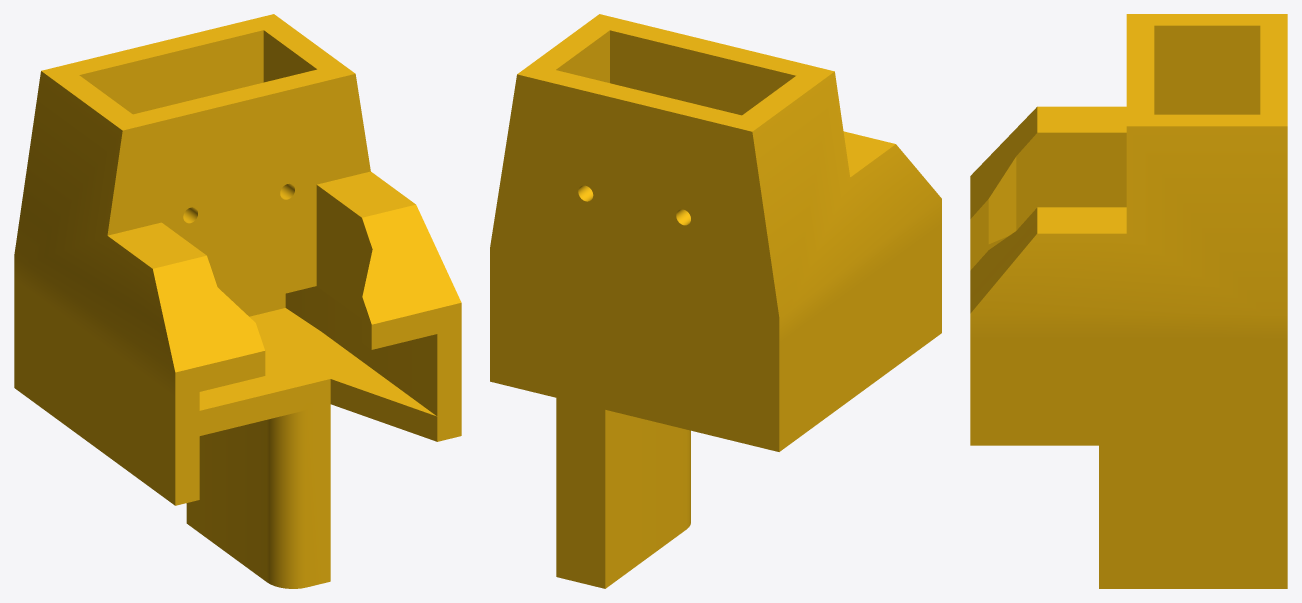
Rendered from Winder.glb.
The picture shows the model from 3 angles, left to right: view 1: azimuth 30°, elevation 25°; view 2: azimuth 150°, elevation 25°; view 3: azimuth 270°, elevation 25°; orthographic projection. The views are drawn at different scales.
Parts seen in each view (by area): view 1: Part 1; view 2: Part 1; view 3: Part 1.
Boxes of the visible parts, bbox=[...] form: Part 1: bbox=[14, 14, 461, 588]; Part 1: bbox=[490, 14, 941, 588]; Part 1: bbox=[970, 14, 1287, 588].
Bounding box in the file's own units: 0.0591 × 0.0963 × 0.0576.
